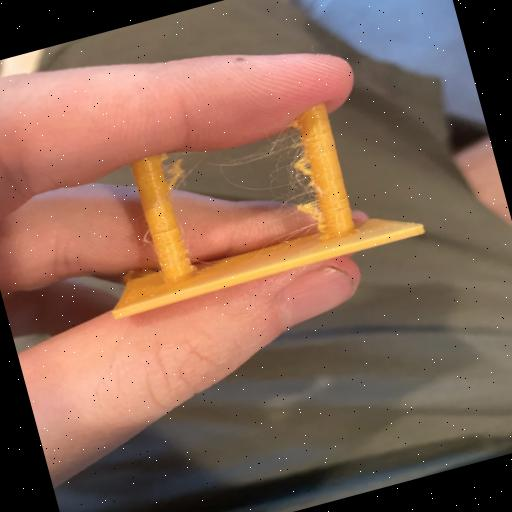stringing: (208, 124, 322, 231), (151, 151, 198, 195)
